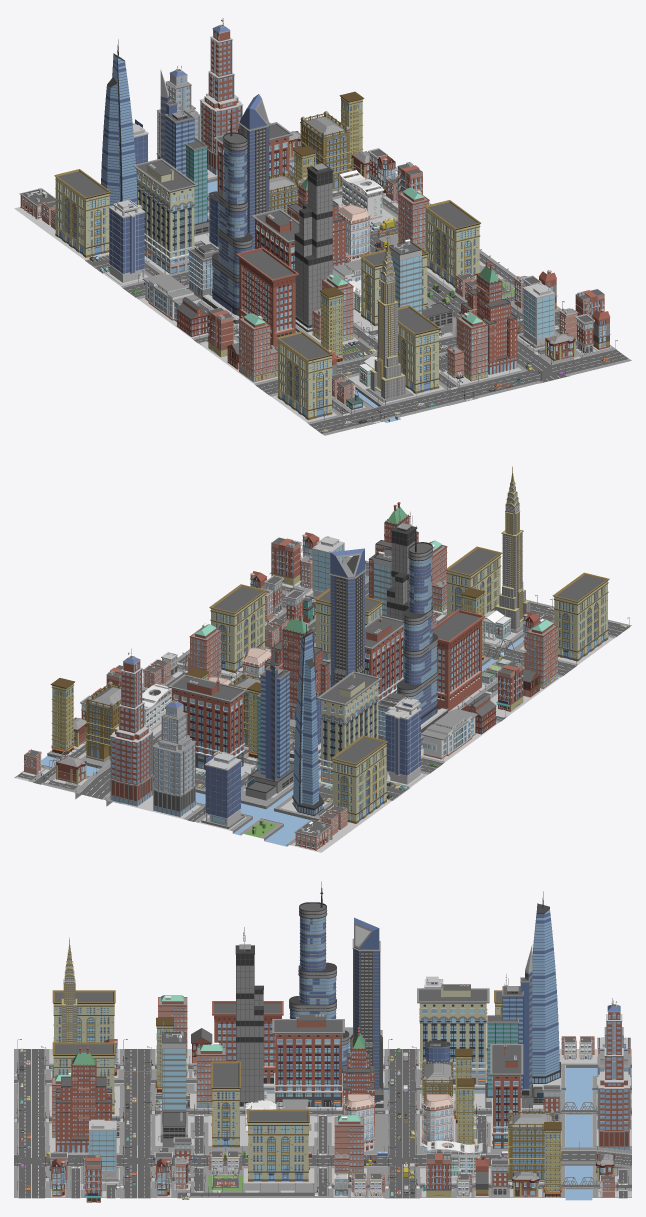
The model's file is dkGraphicsData.glb.
3 renders of one model, top to bottom at view 1: azimuth 30°, elevation 25°; view 2: azimuth 150°, elevation 25°; view 3: azimuth 270°, elevation 25°, orthographic.
Parts seen in each view (by area): view 1: appartnemt_2_007.001, skyscraper_002.001, skyscraper_003.001, appartnemt_2_008.001, appartnemt_2_004.002, appartnemt_2_004.006, skyscraper_009.001, appartnemt_2_004.005, appartnemt_2_009.001, appartnemt_2_002.001, appartnemt_2_013.002, skyscraper_008.001 (+35 smaller); view 2: skyscraper_002.001, appartnemt_2_002.001, appartnemt_2_005.001, appartnemt_2_009.001, skyscraper_001.001, appartnemt_2_007.001, appartnemt_2_014.001, appartnemt_2_008.001, appartnemt_2_004.006, appartnemt_2_004.002, skyscraper_009.001, appartnemt_2_004.005 (+31 smaller); view 3: appartnemt_2_005.002, appartnemt_2_007.001, appartnemt_2_004.005, skyscraper_009.001, skyscraper_002.001, appartnemt_2_013.002, skyscraper_001.001, skyscraper_003.001, appartnemt_2_009.001, appartnemt_2_002.001, appartnemt_2_011.001, appartnemt_2_005.001 (+67 smaller).
Boxes of the visible parts, x1=… form: appartnemt_2_007.001: x1=133, y1=158, x2=197, y2=274; skyscraper_002.001: x1=202, y1=110, x2=252, y2=324; skyscraper_003.001: x1=294, y1=151, x2=333, y2=332; appartnemt_2_008.001: x1=236, y1=247, x2=298, y2=347; appartnemt_2_004.002: x1=54, y1=169, x2=110, y2=257; appartnemt_2_004.006: x1=276, y1=331, x2=333, y2=420; skyscraper_009.001: x1=101, y1=39, x2=136, y2=206; appartnemt_2_004.005: x1=424, y1=200, x2=480, y2=287; appartnemt_2_009.001: x1=160, y1=70, x2=209, y2=236; appartnemt_2_002.001: x1=200, y1=17, x2=243, y2=175; appartnemt_2_013.002: x1=461, y1=261, x2=517, y2=374; skyscraper_008.001: x1=365, y1=235, x2=413, y2=402; skyscraper_002.001: x1=397, y1=526, x2=448, y2=733; appartnemt_2_002.001: x1=109, y1=648, x2=153, y2=806; appartnemt_2_005.001: x1=168, y1=671, x2=247, y2=769; appartnemt_2_009.001: x1=245, y1=640, x2=293, y2=800; skyscraper_001.001: x1=328, y1=548, x2=366, y2=687; appartnemt_2_007.001: x1=317, y1=671, x2=381, y2=783; appartnemt_2_014.001: x1=152, y1=693, x2=196, y2=816; appartnemt_2_008.001: x1=432, y1=609, x2=485, y2=711; appartnemt_2_004.006: x1=552, y1=572, x2=609, y2=661; appartnemt_2_004.002: x1=331, y1=735, x2=387, y2=823; skyscraper_009.001: x1=292, y1=624, x2=324, y2=816; appartnemt_2_004.005: x1=209, y1=584, x2=266, y2=672; appartnemt_2_005.002: x1=272, y1=1008, x2=344, y2=1106; appartnemt_2_007.001: x1=417, y1=984, x2=489, y2=1084; appartnemt_2_004.005: x1=247, y1=1109, x2=309, y2=1181; skyscraper_009.001: x1=532, y1=891, x2=560, y2=1083; skyscraper_002.001: x1=289, y1=881, x2=349, y2=1072; appartnemt_2_013.002: x1=55, y1=1047, x2=112, y2=1152; skyscraper_001.001: x1=350, y1=917, x2=383, y2=1107; skyscraper_003.001: x1=235, y1=927, x2=266, y2=1108; appartnemt_2_009.001: x1=485, y1=945, x2=544, y2=1107; appartnemt_2_002.001: x1=597, y1=998, x2=631, y2=1150; appartnemt_2_011.001: x1=158, y1=1021, x2=187, y2=1147; appartnemt_2_005.001: x1=490, y1=1036, x2=523, y2=1148.
Bounding box in the file's own units: 166 × 102 × 280.
Materials: 1 (1 with a texture image).
